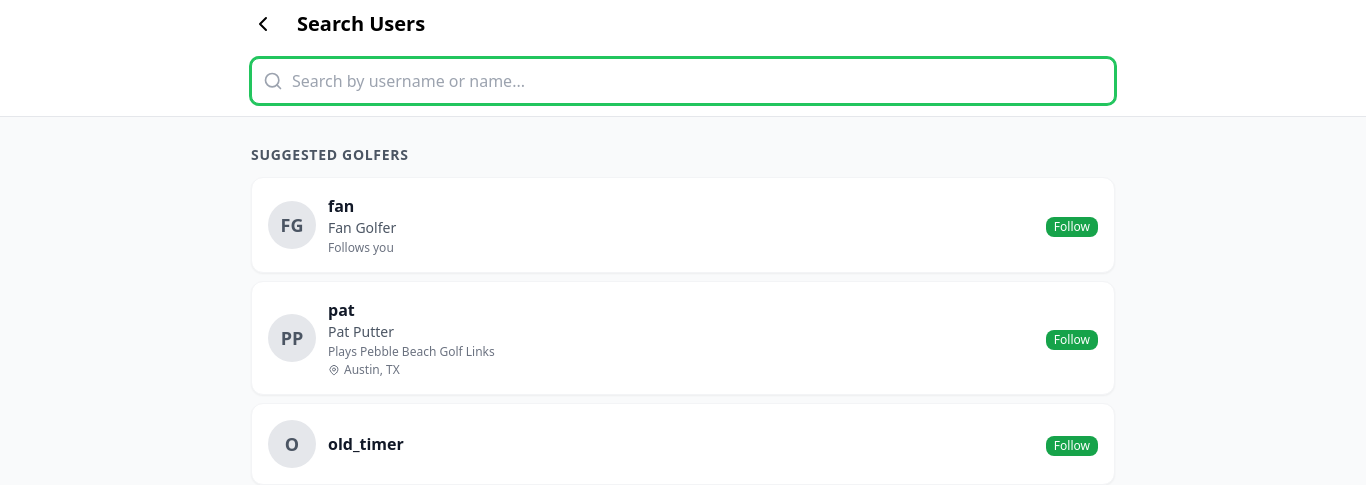
Scenario: a golfer followed from the suggestions still shows "Following" after a search is cleared
The image size is (1366, 485).
Check: the text "Follows you" is shown, box [328, 239, 394, 256]
Click the button "Follow" in the row of "Plays Pebble Beach Golf Links" at (1072, 340), box [1046, 330, 1098, 350]
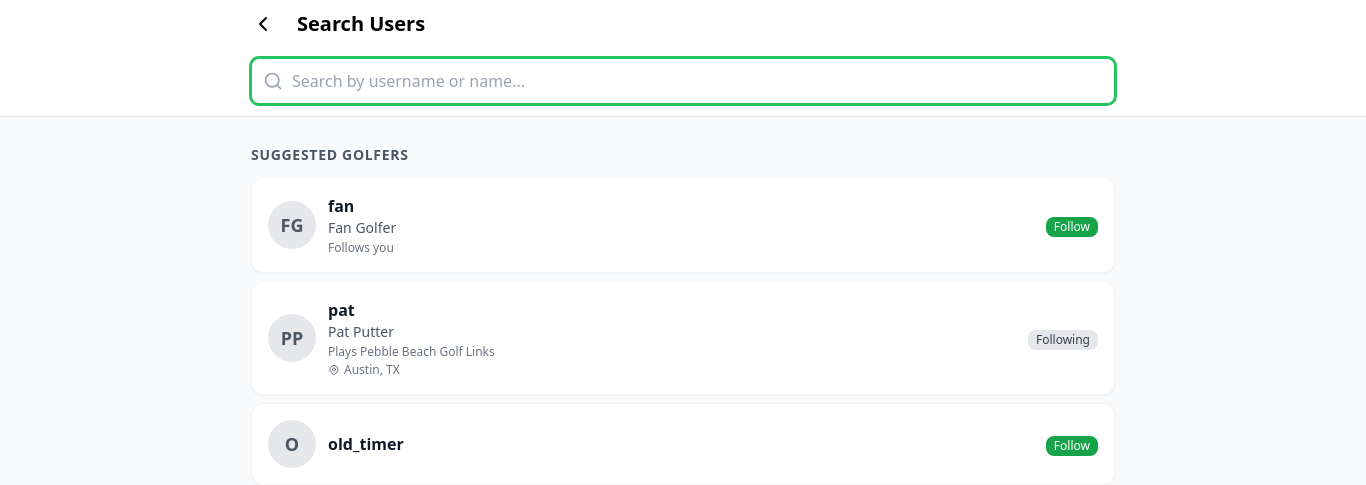
Check: the button "Following" is shown, box [1028, 330, 1098, 350]
Type "sam" into the field with placeholder "Search by username or name..." at (683, 81), box [251, 58, 1115, 104]
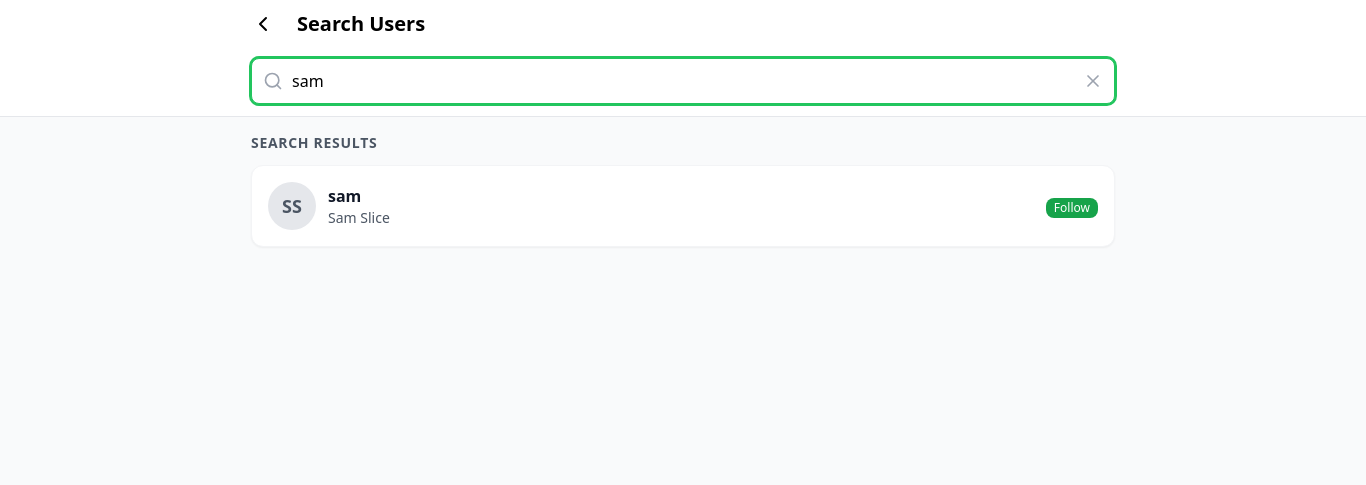
Check: the text "Sam Slice" is shown, box [328, 208, 390, 227]
Click the button named "Clear search" at (1093, 81), box [1083, 71, 1103, 91]
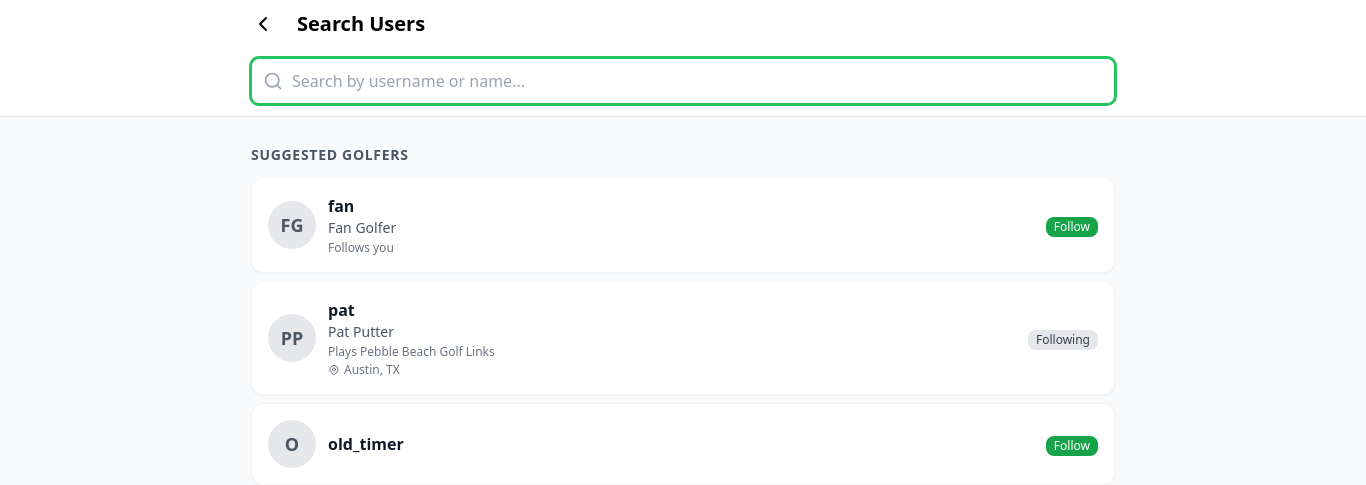
Check: the button "Follow" in the row of "Fan Golfer" is shown, box [1046, 217, 1098, 237]
Check: the heading "Suggested golfers" is shown, box [251, 145, 409, 164]
Check: the button "Following" is shown, box [1028, 330, 1098, 350]
